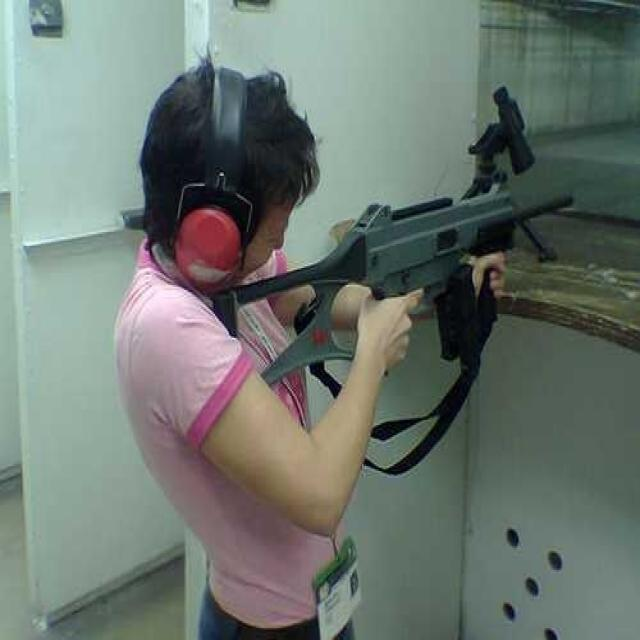Rifle: (201, 177, 582, 369)
